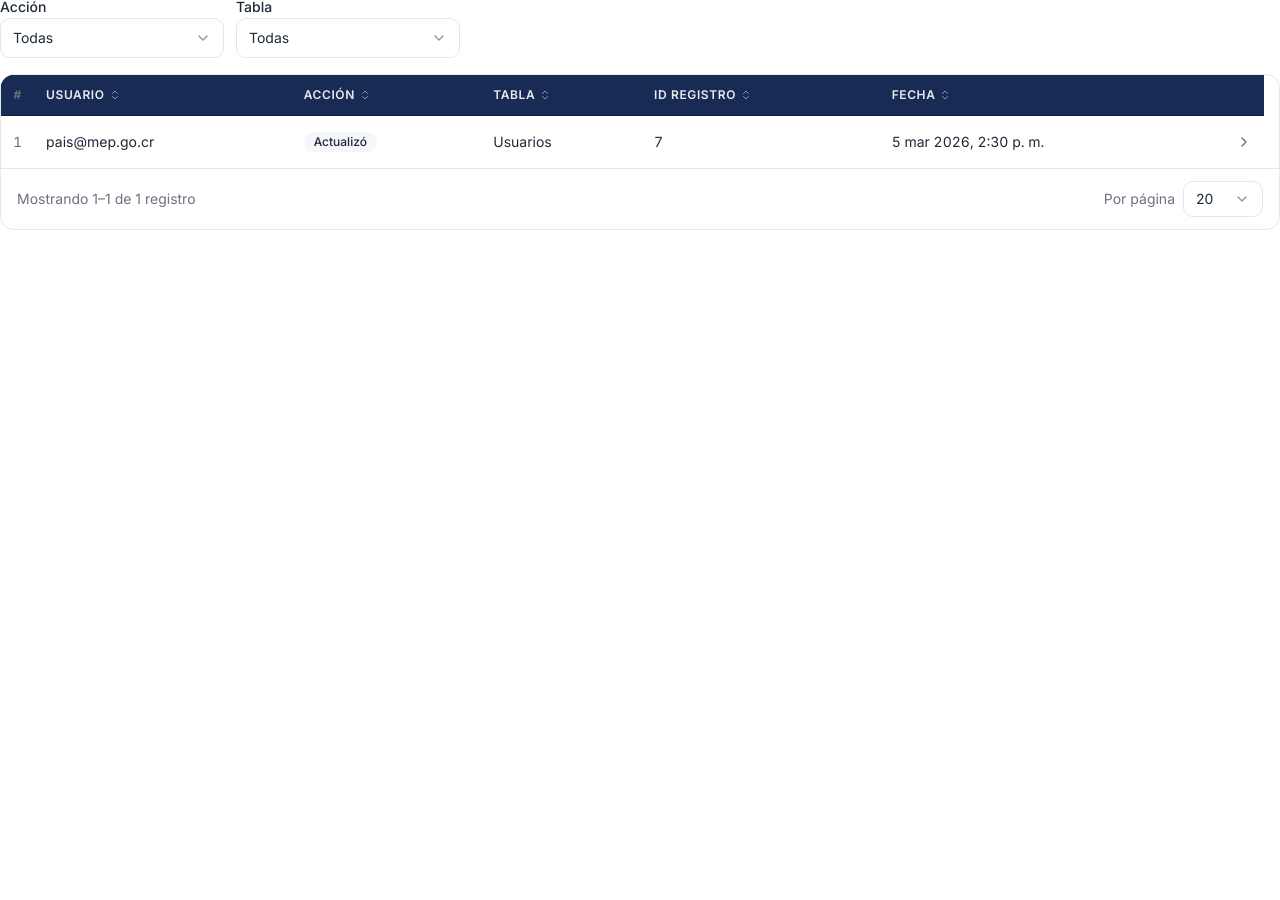
Test case: Auditoría › no falla al abrir el detalle si los datos no son JSON válido
Click the text "pais@mep.go.cr". click: [100, 141]
box: x1=34 y1=115 x2=292 y2=168
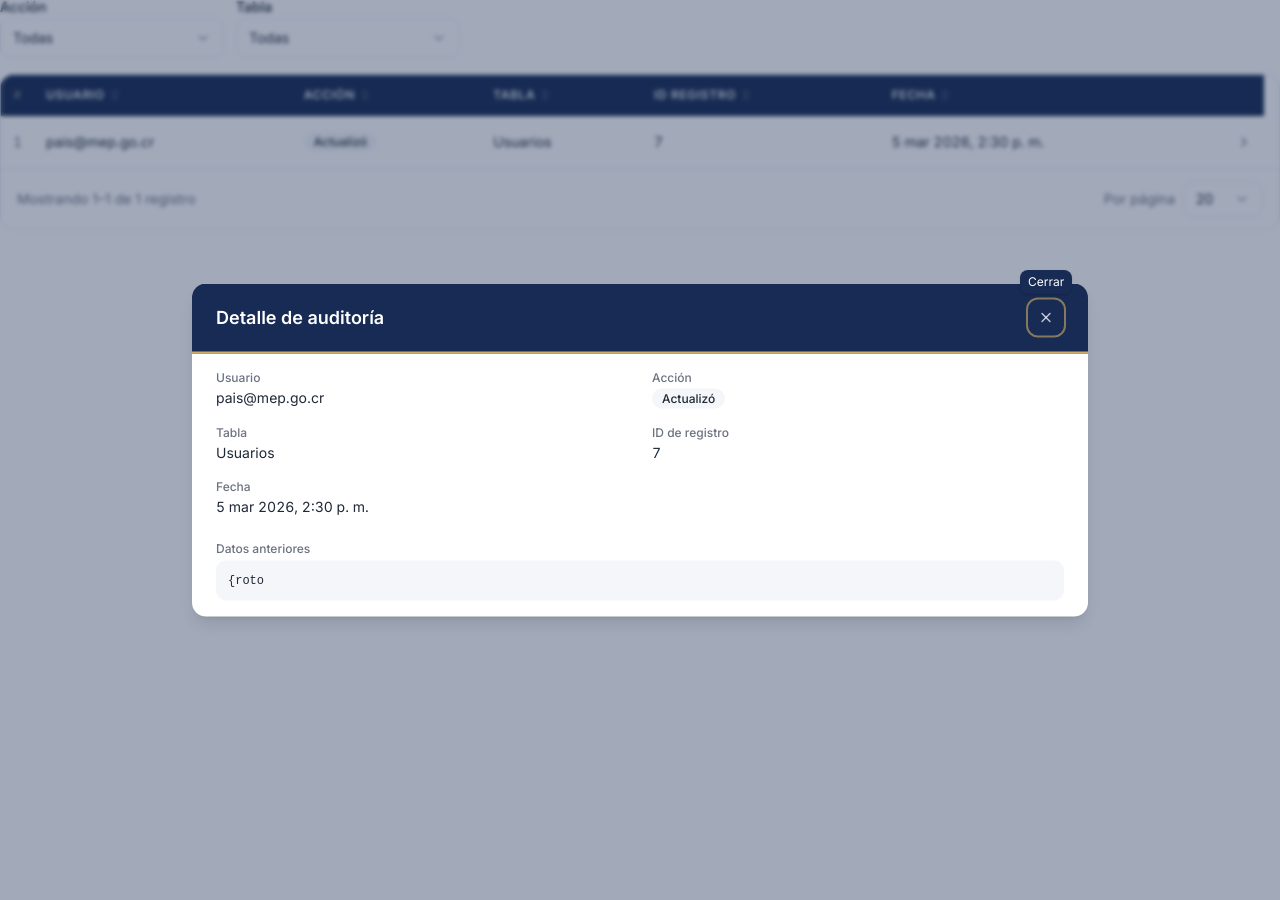
Check: the text "{roto" is shown, box x1=216 y1=560 x2=1064 y2=600
